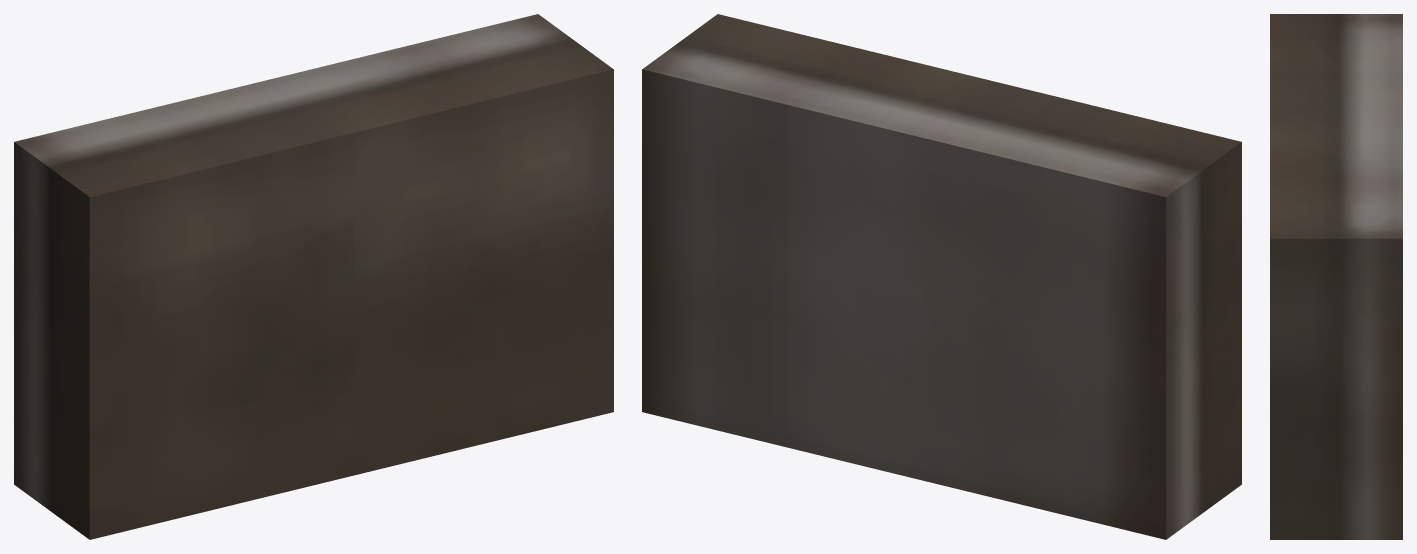
Rendered from filter_door__right_latch_button.glb.
3 views of the same model, side by side, from view 1: azimuth 30°, elevation 25°; view 2: azimuth 150°, elevation 25°; view 3: azimuth 270°, elevation 25° (orthographic). The views are drawn at different scales.
Visible parts, largest first — view 1: geometry_0; view 2: geometry_0; view 3: geometry_0.
Part boxes in pixels (box(x1,y1,x2,y2)): geometry_0: box(14, 14, 613, 539); geometry_0: box(642, 14, 1241, 539); geometry_0: box(1270, 14, 1402, 539).
Bounding box in the file's own units: 0.016 × 0.01 × 0.004.
1 material, 1 textured.
